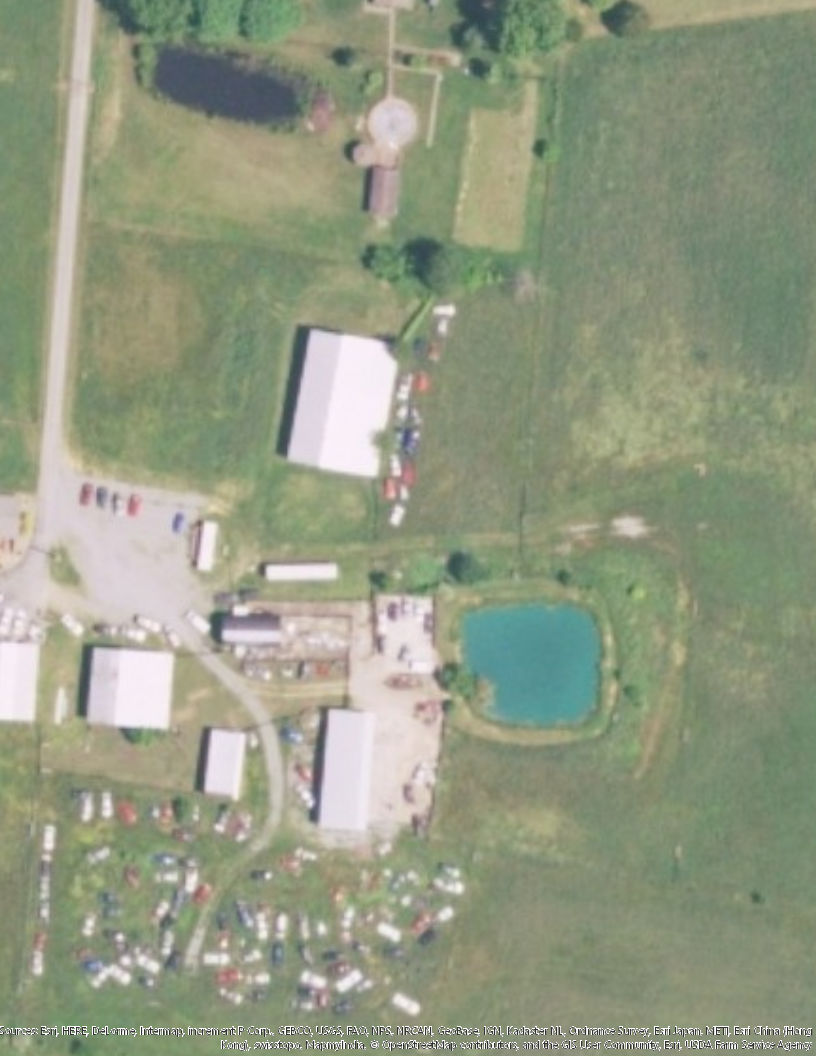cafo: (276, 324, 416, 480), (315, 705, 382, 840)
